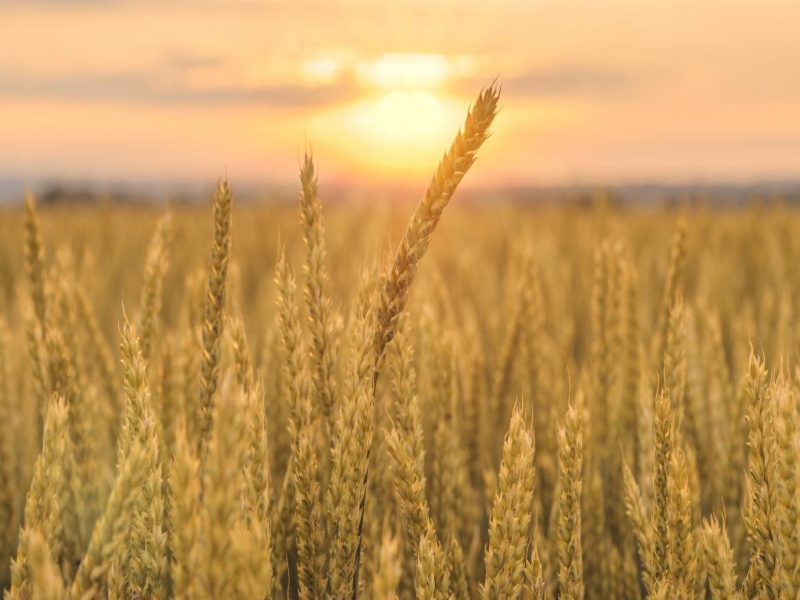wheat: (289, 49, 505, 378), (609, 220, 794, 593), (378, 370, 615, 594), (87, 287, 183, 595), (193, 163, 264, 423), (1, 182, 93, 381)
